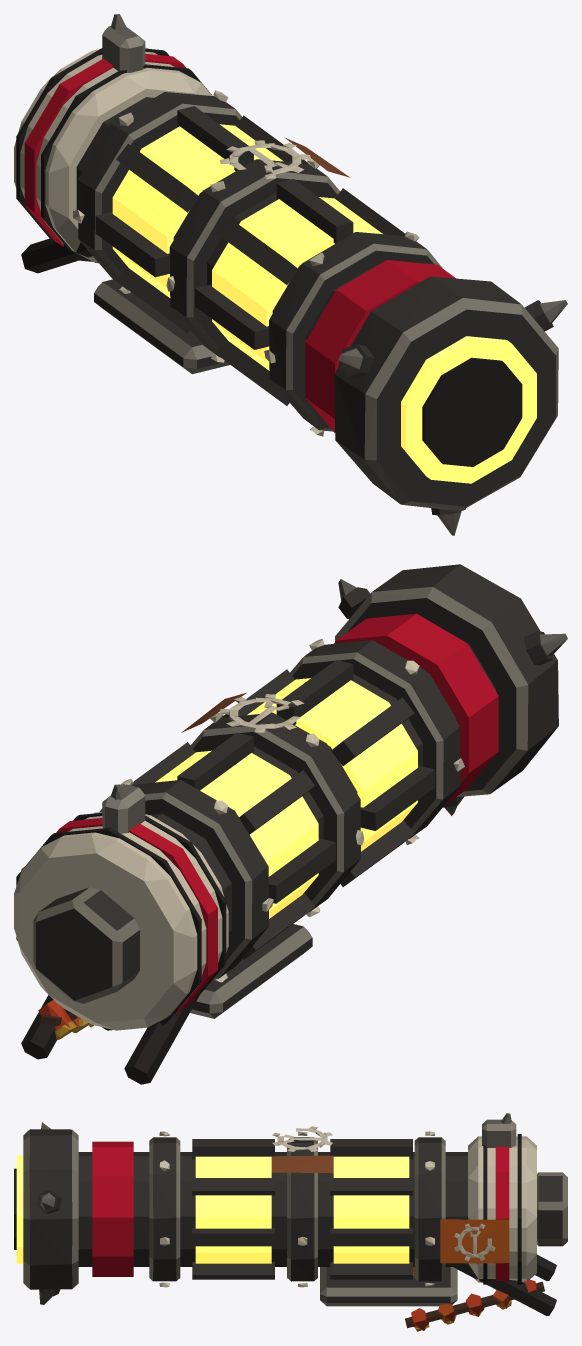
The model's file is w_brute_cannon.glb.
The picture shows the model from 3 angles, top to bottom: view 1: azimuth 30°, elevation 25°; view 2: azimuth 150°, elevation 25°; view 3: azimuth 270°, elevation 25°; orthographic projection. The views are drawn at different scales.
Parts seen in each view (by area): view 1: w_brute_cannon; view 2: w_brute_cannon; view 3: w_brute_cannon.
Boxes of the visible parts, x1,y1,x2,y2 form: w_brute_cannon: (14, 14, 567, 535); w_brute_cannon: (14, 564, 567, 1084); w_brute_cannon: (14, 1113, 567, 1331).
Size of the model in its own units: 0.534 by 0.6408 by 1.61.
